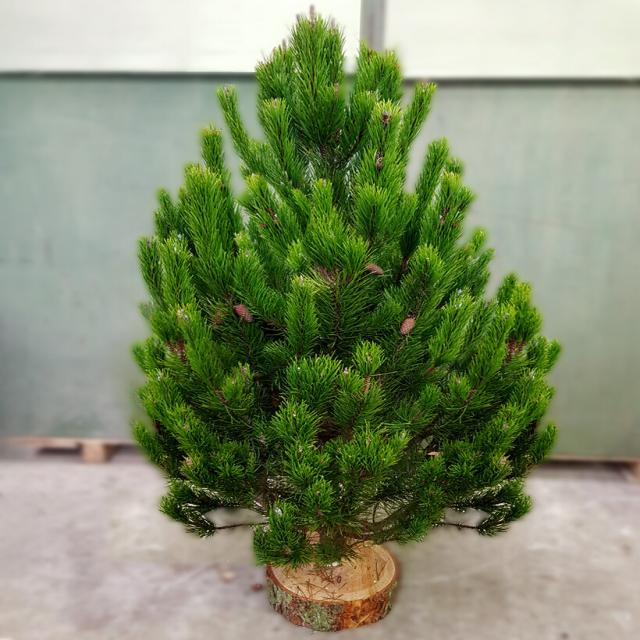Pinus contorta var: (140, 10, 579, 630)
